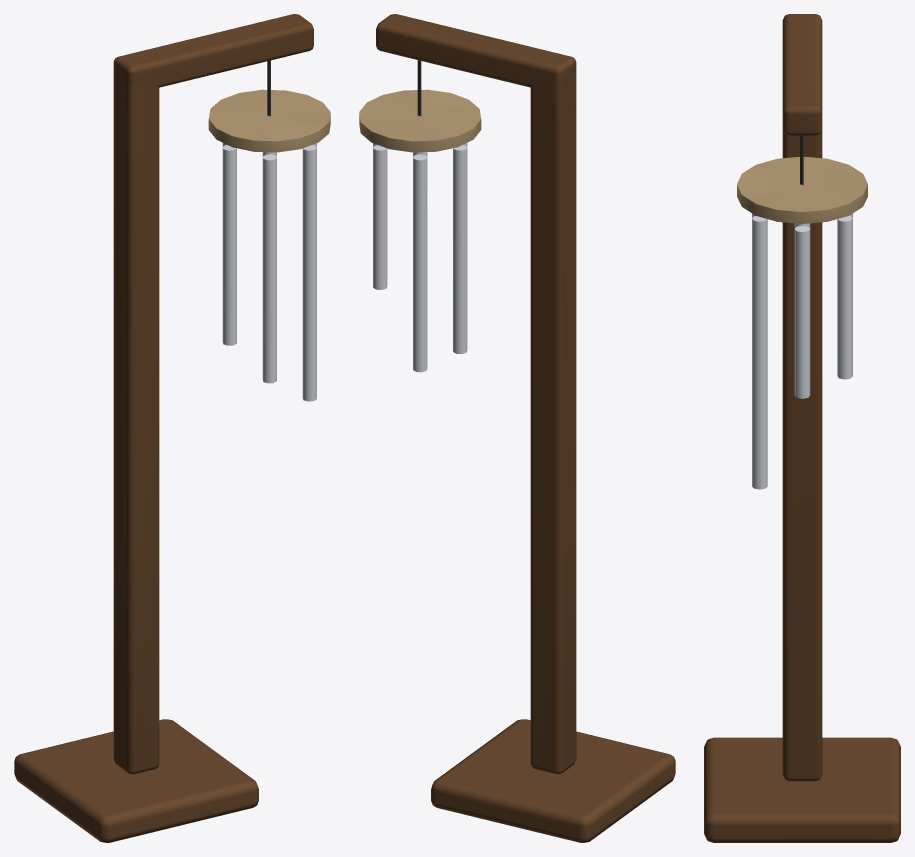
The model's file is furn_od_chimes.glb.
3 views of the same model, side by side, from view 1: azimuth 30°, elevation 25°; view 2: azimuth 150°, elevation 25°; view 3: azimuth 270°, elevation 25° (orthographic). The views are drawn at different scales.
Parts seen in each view (by area): view 1: furn_od_chimes_main, furn_od_chimes_gloss; view 2: furn_od_chimes_main, furn_od_chimes_gloss; view 3: furn_od_chimes_main, furn_od_chimes_gloss.
Boxes of the visible parts, x1,y1,x2,y2 form: furn_od_chimes_main: (14, 14, 330, 842); furn_od_chimes_gloss: (222, 143, 316, 401); furn_od_chimes_main: (359, 14, 675, 842); furn_od_chimes_gloss: (373, 143, 467, 372); furn_od_chimes_main: (704, 14, 900, 842); furn_od_chimes_gloss: (752, 213, 852, 489).
Bounding box in the file's own units: 0.5 × 1.32 × 0.3.
